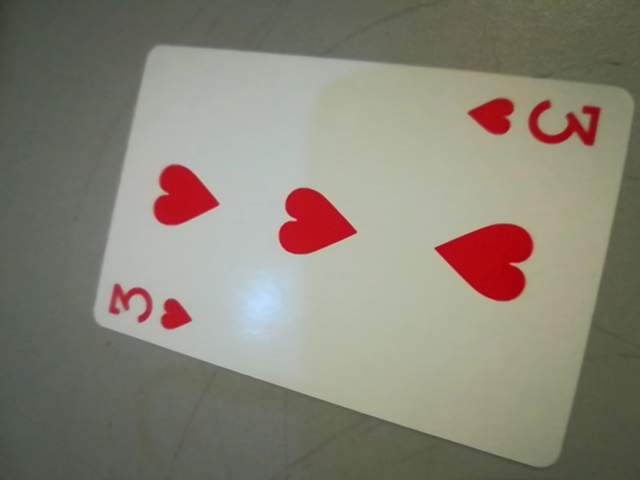hx 3: (465, 90, 618, 155)
